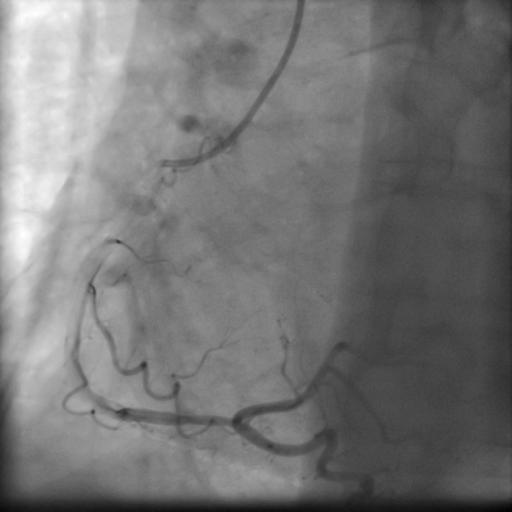Stenosis: (178, 408, 237, 437)
